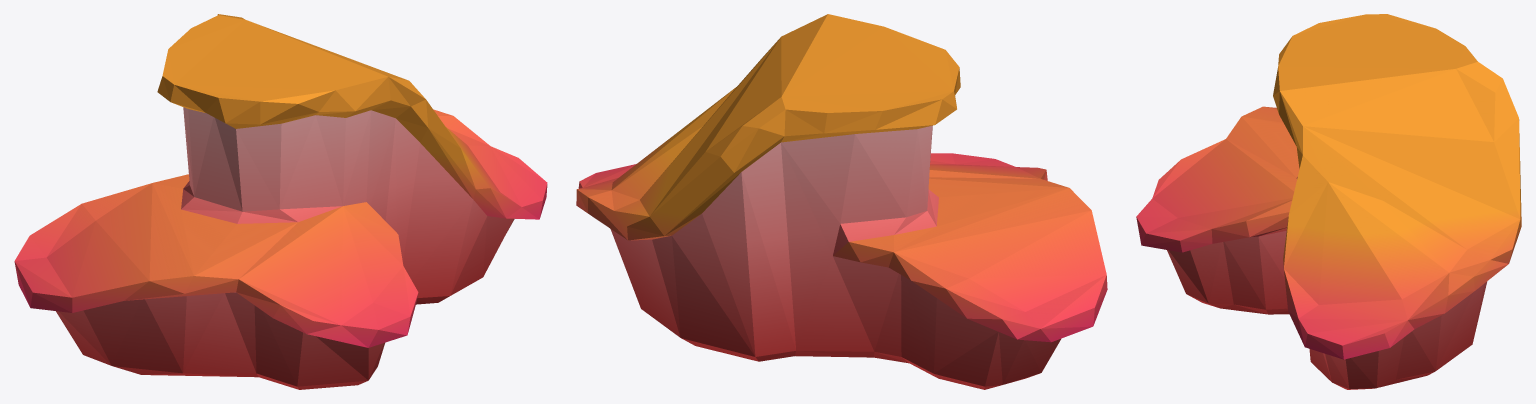
Rendered from SM_Coral_18.fbx.
The picture shows the model from 3 angles, left to right: view 1: azimuth 30°, elevation 25°; view 2: azimuth 150°, elevation 25°; view 3: azimuth 270°, elevation 25°; orthographic projection. The views are drawn at different scales.
Parts seen in each view (by area): view 1: Coral_18; view 2: Coral_18; view 3: Coral_18.
Boxes of the visible parts, box(x1,y1,x2,y2) form: Coral_18: box(14, 14, 547, 389); Coral_18: box(576, 14, 1107, 389); Coral_18: box(1136, 14, 1521, 389).
Size of the model in its own units: 182 by 90.86 by 130.
